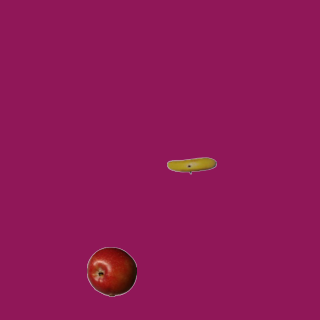Apple Braeburn: (86, 246, 136, 296)
Banana: (166, 140, 216, 190)
